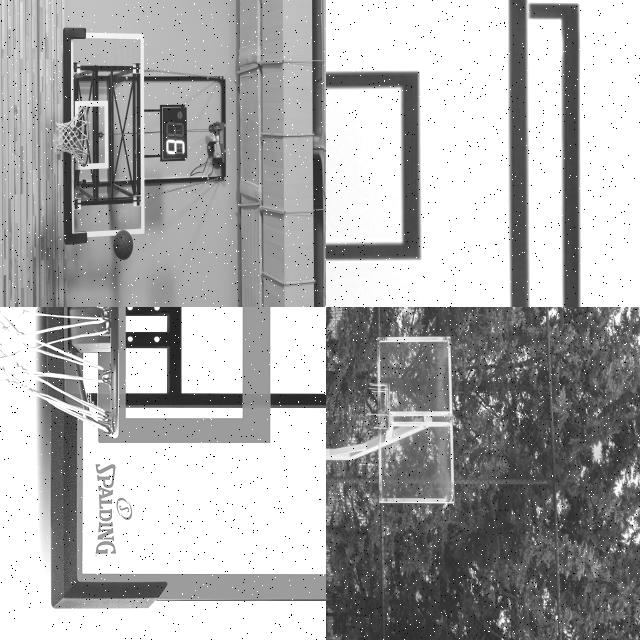backboard: (53, 307, 326, 601), (326, 0, 583, 307), (63, 28, 147, 235), (370, 336, 464, 502)
